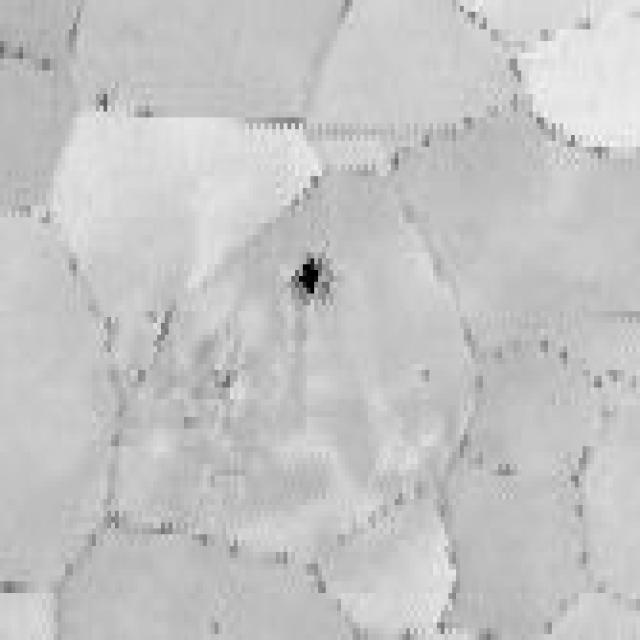good_void: (291, 245, 340, 308)
